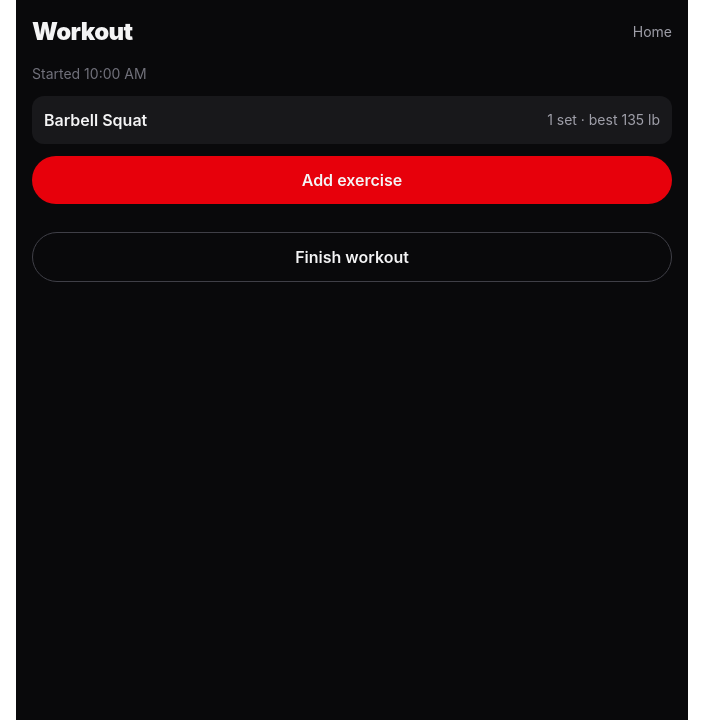
Test case: WorkoutPage › finishes after a confirming second tap and reports what was saved
This screenshot has width=705, height=720.
Click the button "Finish workout": click(352, 257) [32,232,672,282]
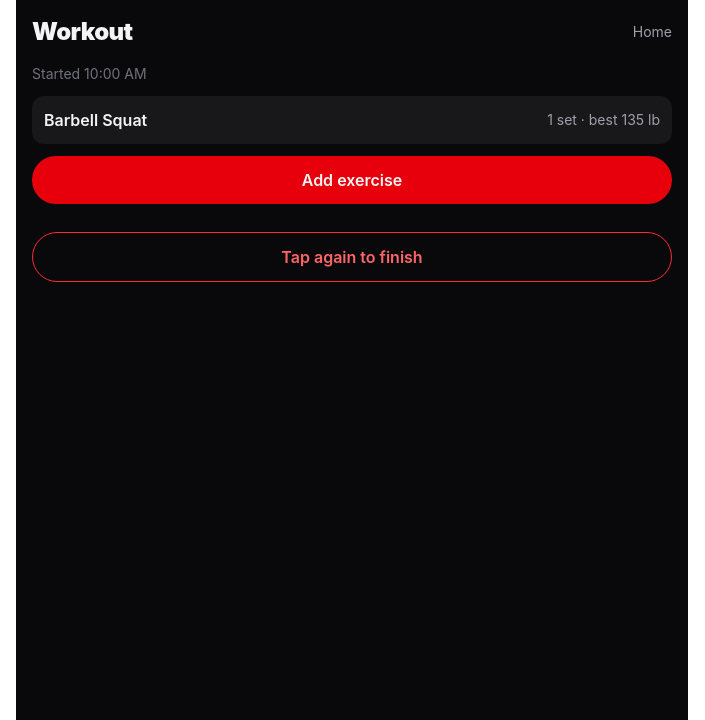
Click the button "Tap again to finish": click(352, 257) [32,232,672,282]
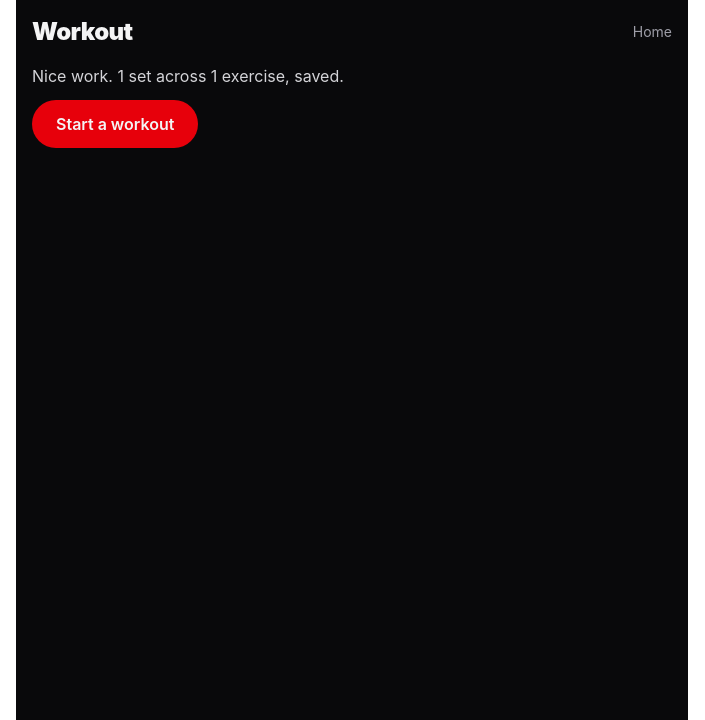
expect the message shows "1 set across 1 exercise": met, box [32,66,344,86]
expect the button "Start a workout" is shown: met, box [32,100,198,148]
